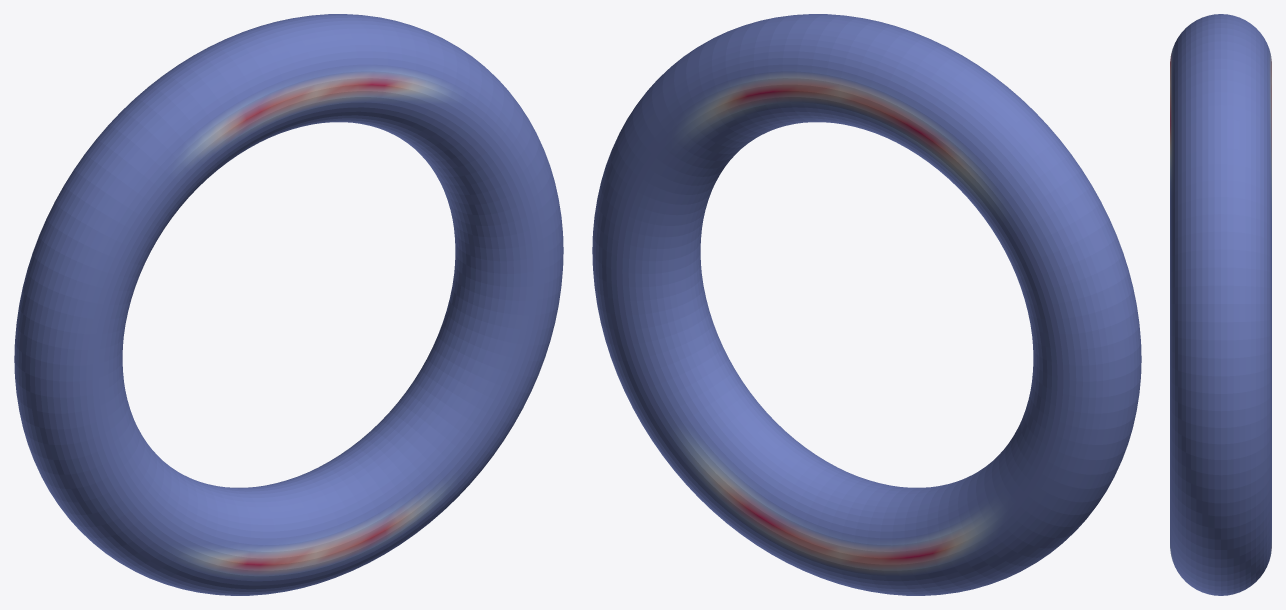
The picture shows the model from 3 angles, left to right: view 1: azimuth 30°, elevation 25°; view 2: azimuth 150°, elevation 25°; view 3: azimuth 270°, elevation 25°; orthographic projection. The views are drawn at different scales.
Parts seen in each view (by area): view 1: world; view 2: world; view 3: world.
Part boxes in pixels (x1,y1,x2,y2): world: [14, 14, 563, 595]; world: [592, 14, 1141, 595]; world: [1170, 14, 1271, 595].
Size of the model in its own units: 12.93 by 12.93 by 2.26.
